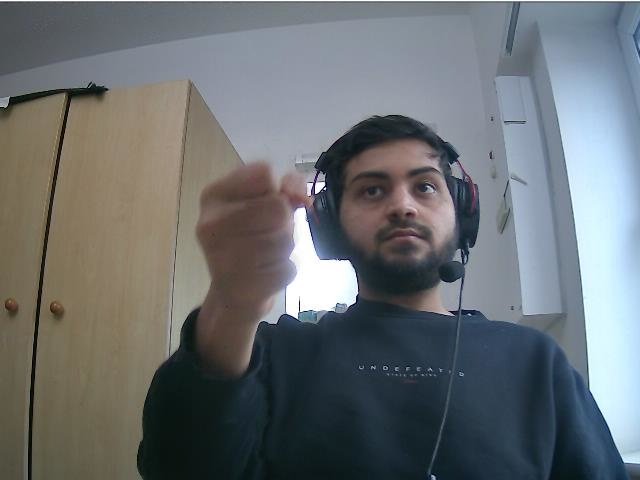hold: (193, 159, 306, 304)
